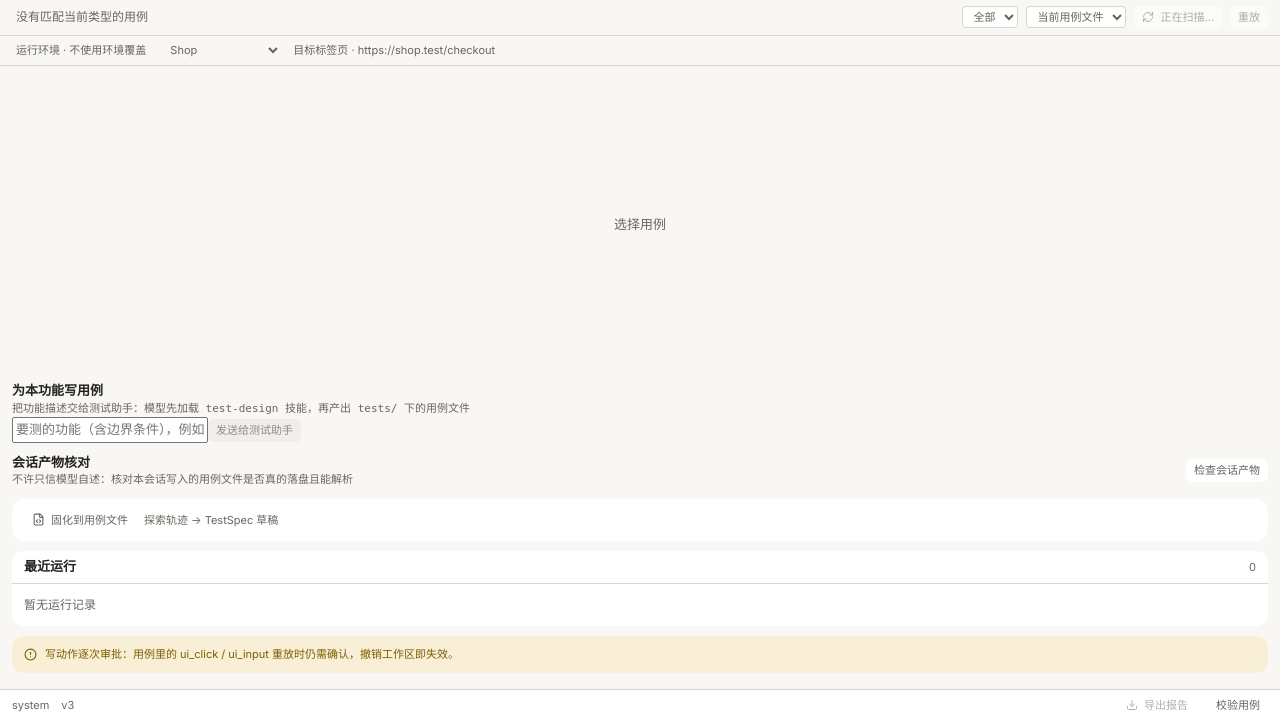
Test case: TestingView run flow › sends a structured authoring instruction for the described feature
Type "优惠券叠加规则" into the field labelled "要测的功能（含边界条件），例如：优惠券叠加规则（过期券、最低消费门槛）" at (110, 430), box [12,417,208,442]
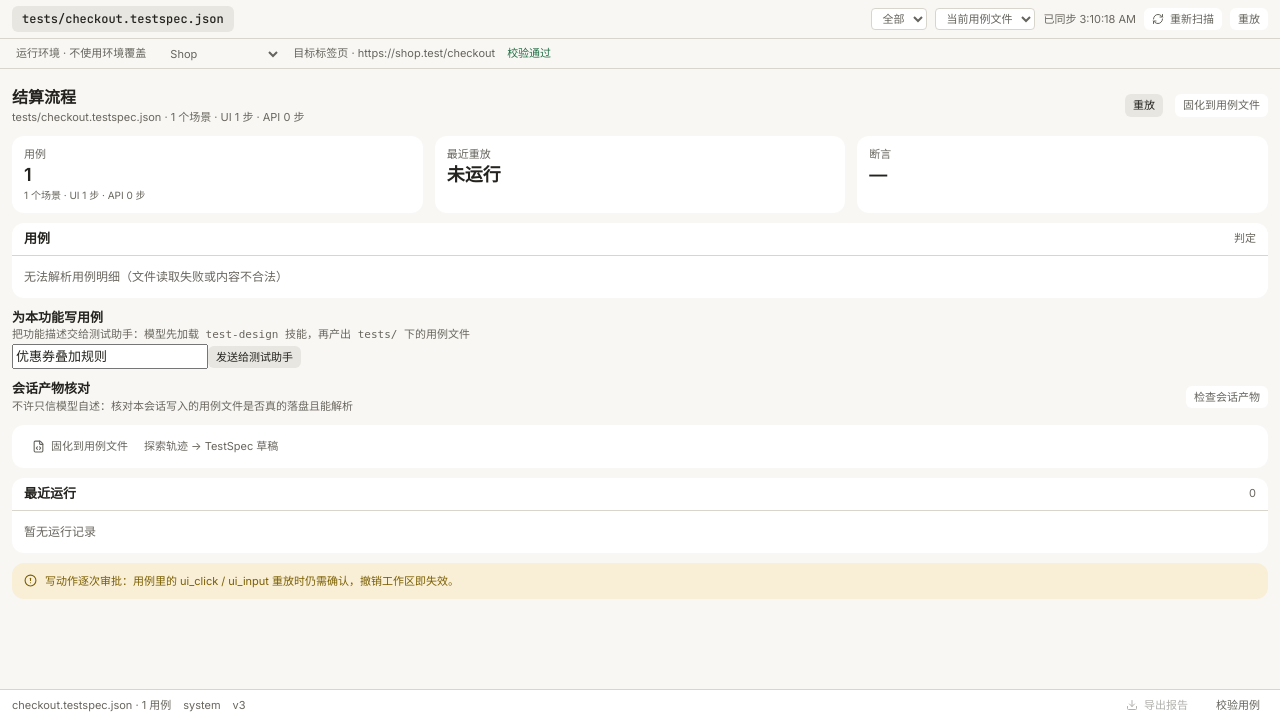
Click the button "发送给测试助手" at (254, 357), box [208,346,301,368]
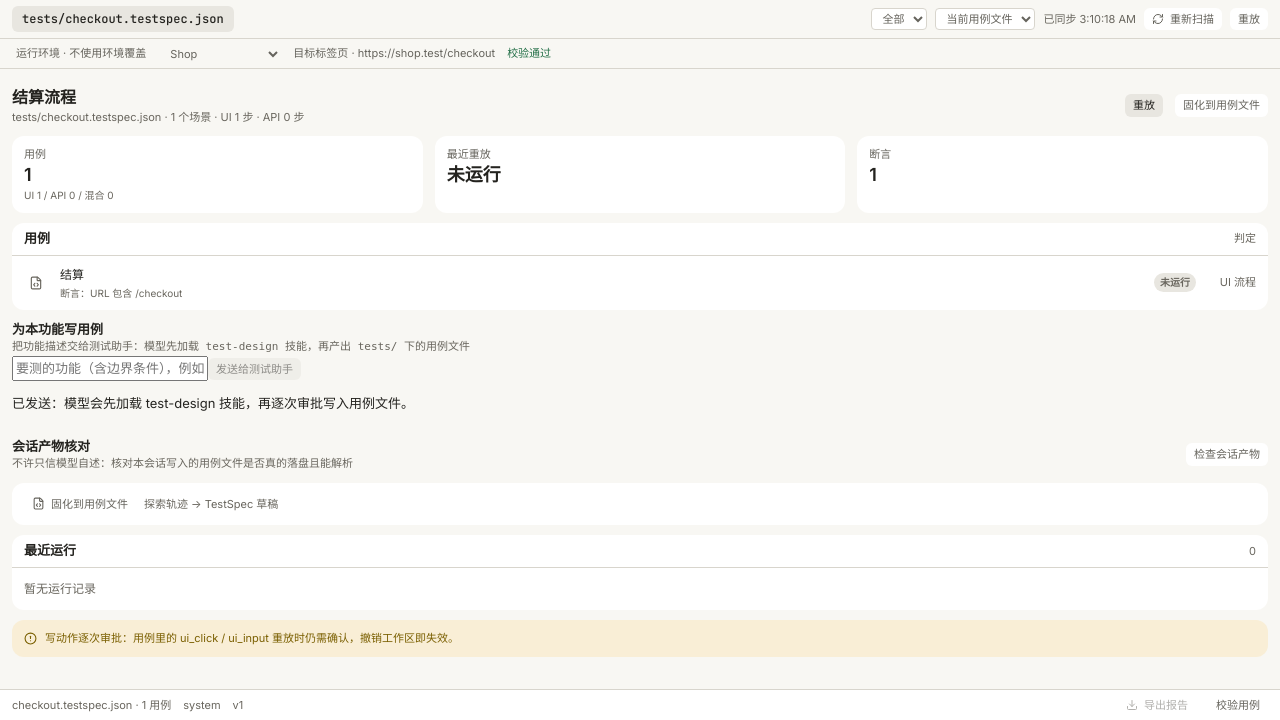
Now the text "已发送：模型会先加载 test-design 技能，再逐次审批写入用例文件。" is shown, box [12,395,414,411]
